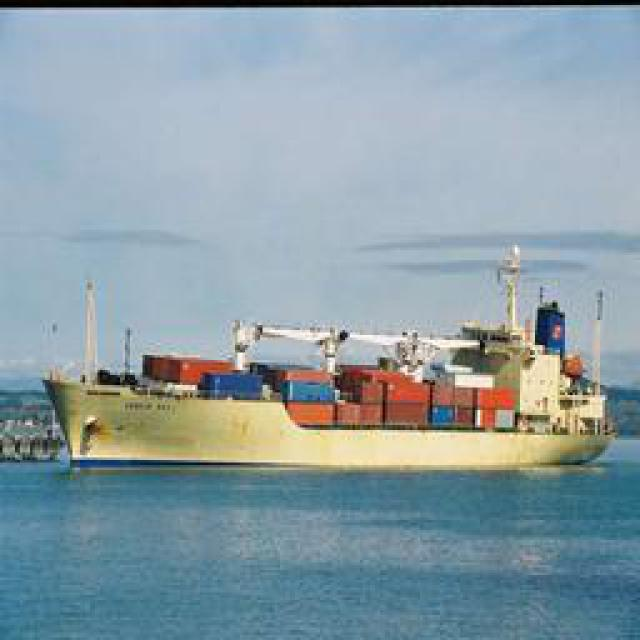Ship: (17, 297, 627, 475)
